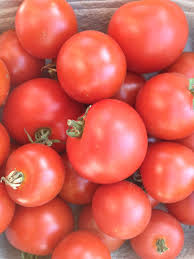tomato: (67, 101, 150, 182), (13, 75, 81, 154), (58, 26, 128, 98), (95, 174, 159, 239), (6, 140, 62, 197)
